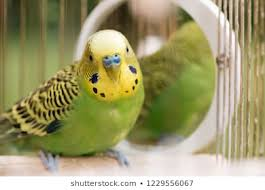budgie: (1, 29, 147, 170)
